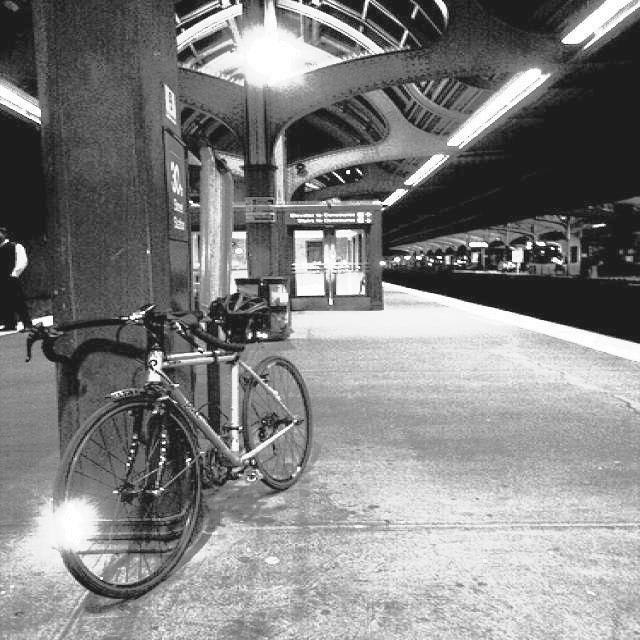Bicycle: (0, 269, 345, 634)
